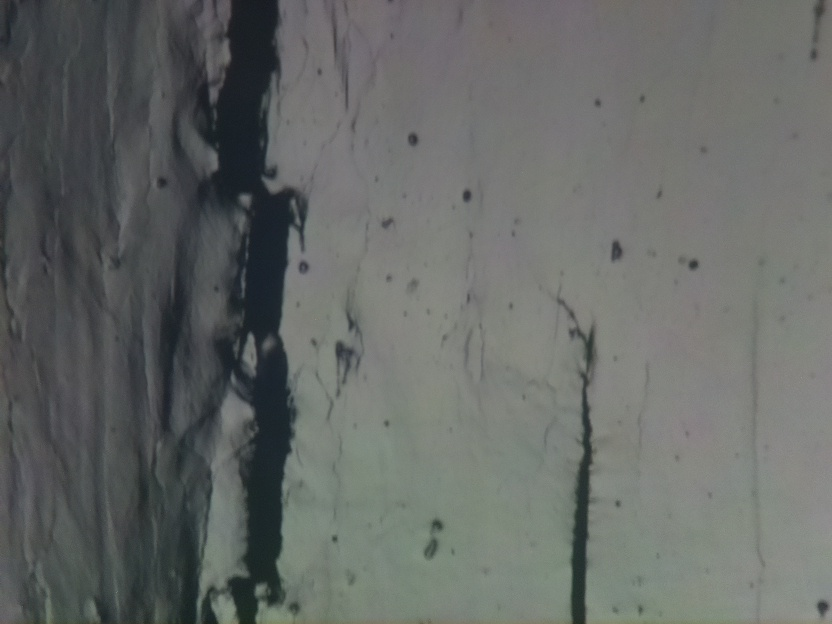crack: (201, 0, 304, 620), (556, 296, 596, 624)
